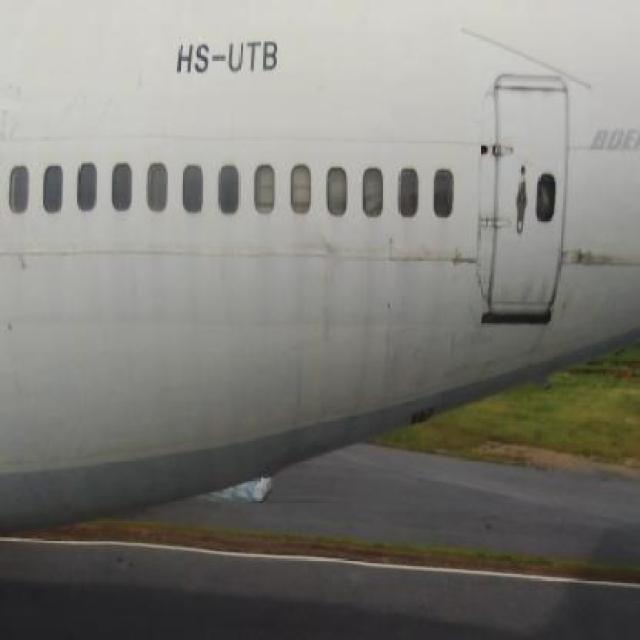Scartch: (558, 235, 640, 278), (401, 247, 482, 288)
